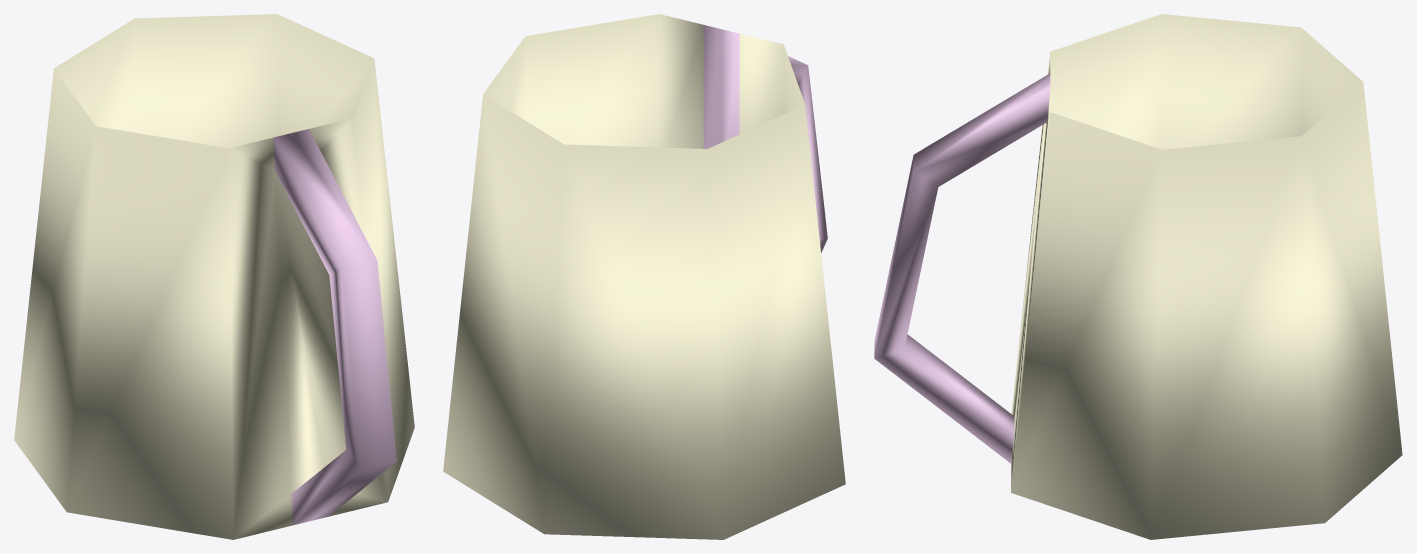
The model's file is Cooking_Mug.glb.
3 renders of one model, left to right at view 1: azimuth 30°, elevation 25°; view 2: azimuth 150°, elevation 25°; view 3: azimuth 270°, elevation 25°, orthographic.
Visible parts, largest first — view 1: Cooking Mug; view 2: Cooking Mug; view 3: Cooking Mug.
Boxes of the visible parts, x1,y1,x2,y2 form: Cooking Mug: [14, 14, 414, 539]; Cooking Mug: [443, 14, 845, 539]; Cooking Mug: [874, 14, 1402, 539].
Bounding box in the file's own units: 0.1462 × 0.15 × 0.1923.
